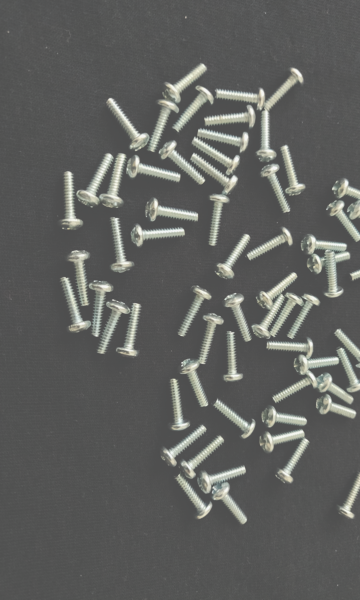shortscrew: (105, 96, 150, 151), (75, 152, 114, 209), (159, 140, 206, 186), (159, 424, 208, 468), (172, 85, 214, 135), (192, 153, 239, 197), (178, 436, 225, 480), (95, 299, 131, 356), (175, 285, 213, 338), (263, 67, 305, 114), (161, 62, 208, 104), (211, 397, 256, 440), (174, 473, 213, 521), (273, 437, 311, 486), (192, 137, 241, 175), (214, 233, 252, 280), (59, 277, 91, 332), (210, 482, 249, 526), (259, 164, 293, 214), (147, 100, 179, 153), (64, 249, 93, 307), (106, 217, 136, 273), (56, 171, 84, 231), (269, 371, 318, 405), (177, 358, 210, 408), (256, 272, 299, 310), (250, 294, 285, 340), (99, 153, 127, 209), (221, 293, 253, 342), (247, 227, 293, 261), (271, 291, 305, 337), (287, 293, 321, 339), (126, 156, 181, 184), (325, 199, 360, 242), (115, 303, 142, 358), (144, 197, 198, 224), (279, 144, 306, 196), (198, 127, 250, 154), (130, 224, 186, 249), (89, 281, 114, 337), (199, 312, 225, 365), (197, 466, 246, 494), (167, 378, 192, 432), (206, 194, 231, 247), (314, 373, 355, 405), (215, 86, 266, 111), (257, 430, 306, 456), (335, 471, 360, 521), (253, 111, 277, 163), (315, 393, 358, 422), (205, 105, 256, 129), (221, 332, 245, 383), (334, 346, 360, 393), (261, 404, 308, 428), (304, 252, 351, 276), (333, 328, 360, 369), (300, 234, 348, 256), (293, 354, 340, 376), (323, 251, 344, 299), (331, 178, 360, 207), (348, 201, 360, 236), (348, 255, 360, 283)
